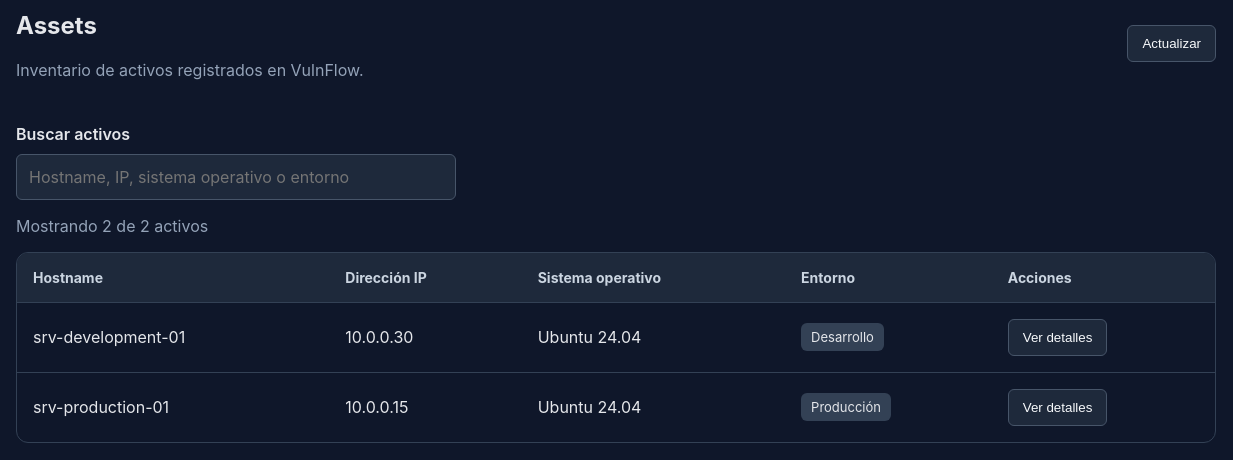
AssetsPage › filtra los activos por hostname
Expected: the text "srv-development-01" is shown, [17, 302, 329, 372]
In the search field labelled "Buscar activos": (236, 177) [16, 154, 456, 200], type "srv-production-01"
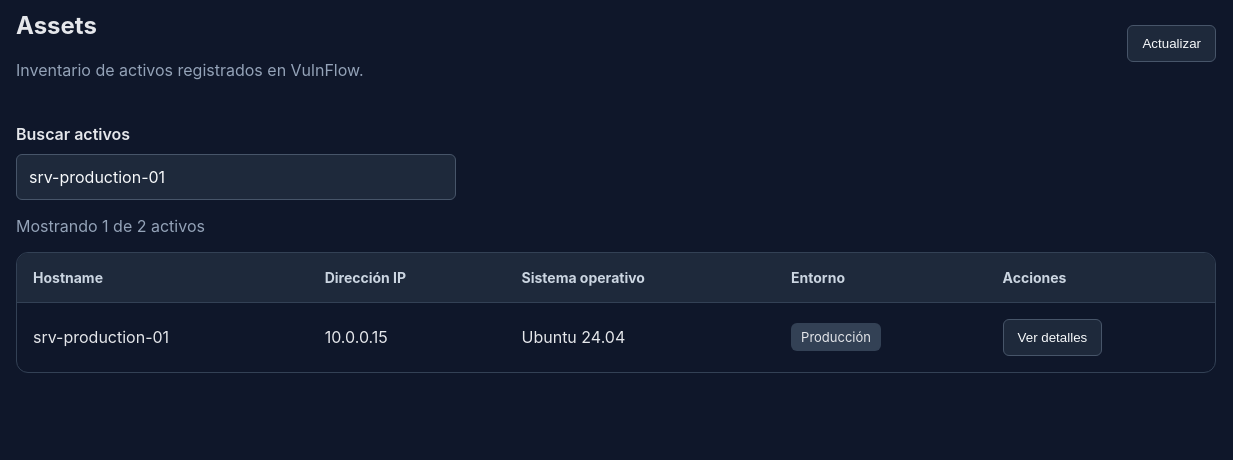
Expected: the text "srv-production-01" is shown, [17, 302, 309, 372]
Expected: the text "srv-development-01" is gone
Expected: the text "Mostrando 1 de 2 activos" is shown, [16, 216, 205, 236]
